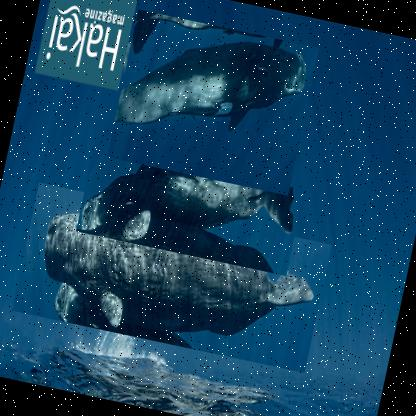sperm_whale: (10, 181, 332, 372), (106, 7, 320, 194), (75, 118, 310, 276)
